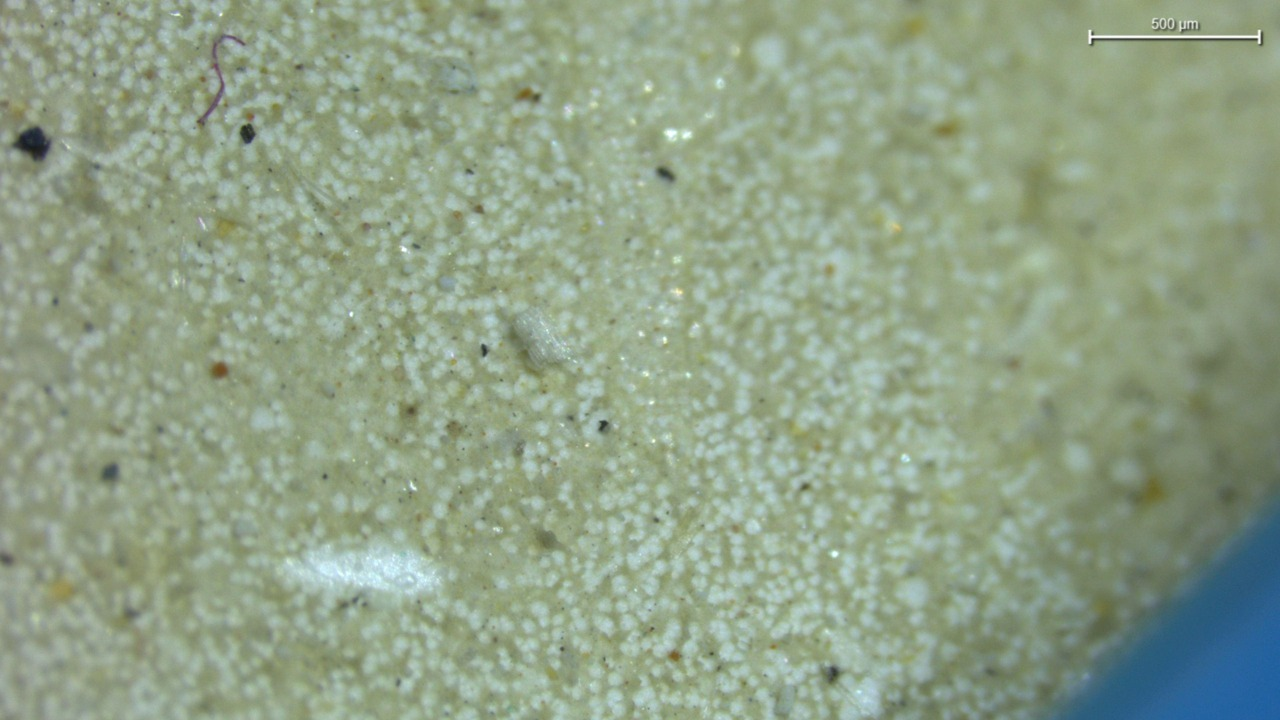microplastic_fragment: (513, 310, 571, 367)
